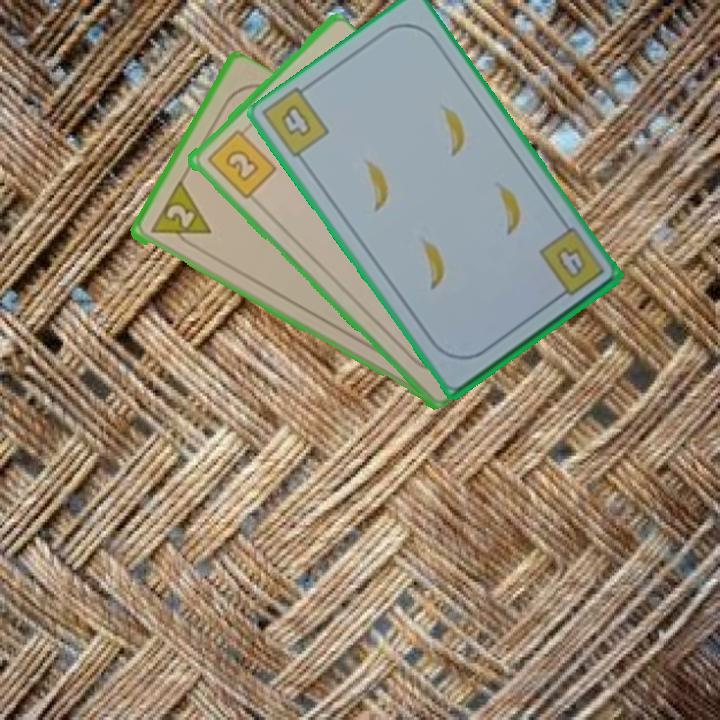2b: (203, 121, 279, 202)
2p: (162, 200, 197, 231)
4b: (535, 227, 608, 304), (276, 100, 314, 140)
